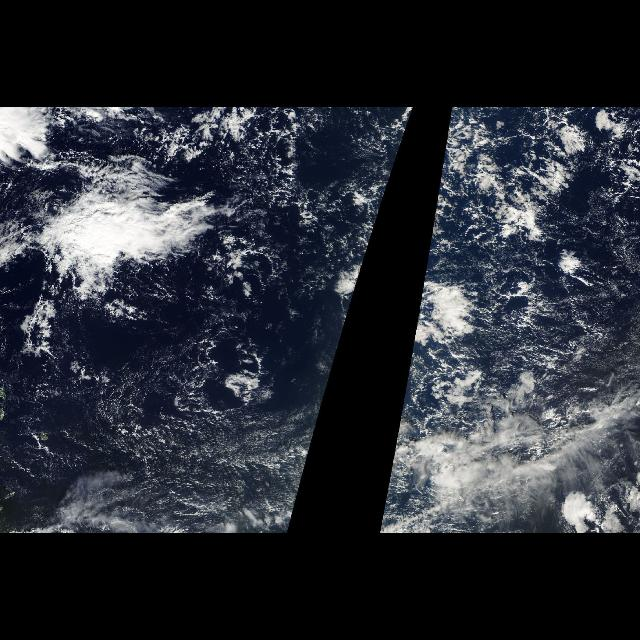Gravel: (412, 108, 628, 386), (208, 108, 414, 266)
Sugar: (61, 348, 327, 530)
